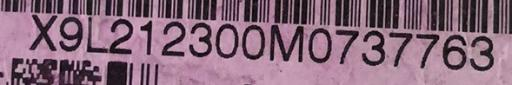letter: (266, 22, 306, 65), (26, 11, 60, 54), (106, 15, 140, 56), (305, 25, 337, 66), (210, 19, 242, 58), (58, 12, 86, 55), (158, 19, 188, 58), (358, 28, 388, 67), (468, 33, 498, 72), (414, 30, 442, 71), (83, 13, 109, 56), (240, 22, 268, 61), (441, 32, 469, 71), (332, 27, 360, 64), (187, 19, 213, 58), (388, 30, 414, 67), (136, 16, 156, 55)
